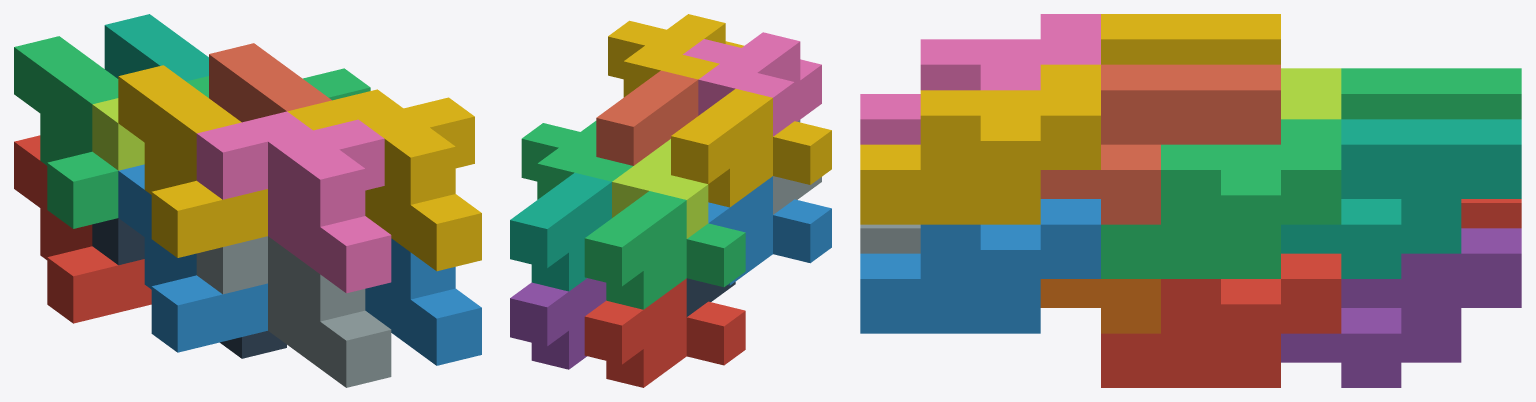
File: tiling.obj
3 views of the same model, side by side, from view 1: azimuth 30°, elevation 25°; view 2: azimuth 150°, elevation 25°; view 3: azimuth 270°, elevation 25° (orthographic). The views are drawn at different scales.
Visible parts, largest first — view 1: copy_2_domain_4, copy_2_domain_8, copy_1_domain_4, copy_2_domain_2, copy_1_domain_3, copy_1_domain_2, copy_1_domain_1, copy_2_domain_6, copy_1_domain_8, copy_1_domain_7, copy_2_domain_1, copy_2_domain_3 (+1 smaller); view 2: copy_1_domain_3, copy_1_domain_4, copy_1_domain_1, copy_1_domain_7, copy_2_domain_4, copy_1_domain_8, copy_1_domain_2, copy_1_domain_5, copy_2_domain_8, copy_2_domain_7, copy_2_domain_3, copy_2_domain_1 (+1 smaller); view 3: copy_2_domain_8, copy_2_domain_7, copy_1_domain_7, copy_2_domain_6, copy_2_domain_5, copy_1_domain_8, copy_1_domain_5, copy_2_domain_4, copy_1_domain_3, copy_1_domain_4, copy_1_domain_6, copy_2_domain_3 (+2 smaller).
Part boxes in pixels (x1,y1,x2,y2): copy_2_domain_4: [196, 111, 391, 293]; copy_2_domain_8: [287, 89, 481, 271]; copy_1_domain_4: [118, 65, 267, 257]; copy_2_domain_2: [196, 236, 391, 387]; copy_1_domain_3: [14, 36, 118, 228]; copy_1_domain_2: [118, 164, 267, 352]; copy_1_domain_1: [14, 135, 151, 323]; copy_2_domain_6: [365, 238, 481, 365]; copy_1_domain_8: [209, 43, 331, 122]; copy_1_domain_7: [104, 14, 208, 81]; copy_2_domain_1: [92, 218, 286, 358]; copy_2_domain_3: [92, 98, 144, 170]; copy_1_domain_3: [584, 191, 745, 309]; copy_1_domain_4: [671, 89, 831, 207]; copy_1_domain_1: [584, 278, 745, 387]; copy_1_domain_7: [510, 173, 611, 291]; copy_2_domain_4: [683, 32, 821, 136]; copy_1_domain_8: [596, 70, 698, 165]; copy_1_domain_2: [708, 176, 831, 285]; copy_1_domain_5: [510, 278, 606, 369]; copy_2_domain_8: [608, 14, 743, 97]; copy_2_domain_7: [521, 121, 632, 199]; copy_2_domain_3: [612, 139, 708, 238]; copy_2_domain_1: [686, 278, 735, 316]; copy_2_domain_8: [860, 64, 1100, 224]; copy_2_domain_7: [1101, 119, 1341, 278]; copy_1_domain_7: [1281, 119, 1521, 278]; copy_2_domain_6: [860, 199, 1100, 333]; copy_2_domain_5: [1101, 253, 1341, 387]; copy_1_domain_8: [1040, 64, 1280, 224]; copy_1_domain_5: [1281, 228, 1521, 387]; copy_2_domain_4: [860, 14, 1100, 144]; copy_1_domain_3: [1341, 68, 1521, 119]; copy_1_domain_4: [1101, 14, 1280, 64]; copy_1_domain_6: [1040, 279, 1160, 333]; copy_2_domain_3: [1281, 68, 1341, 119].
Size of the model in its own units: 6 by 5 by 11.
